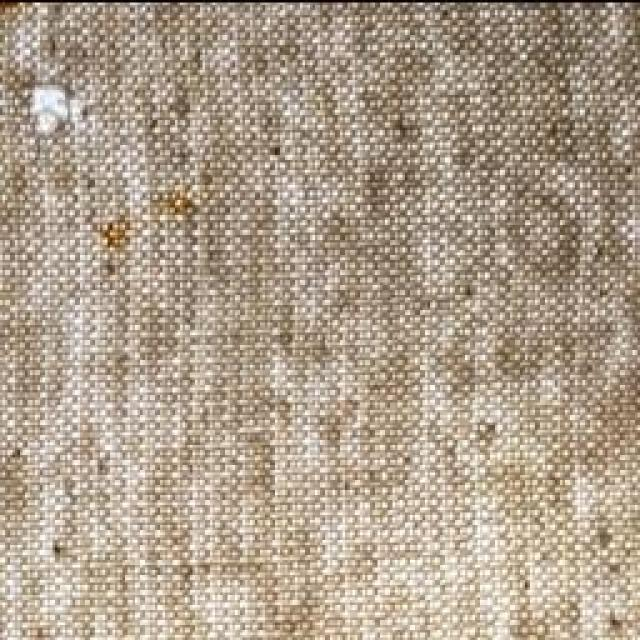other: (25, 77, 77, 139)
